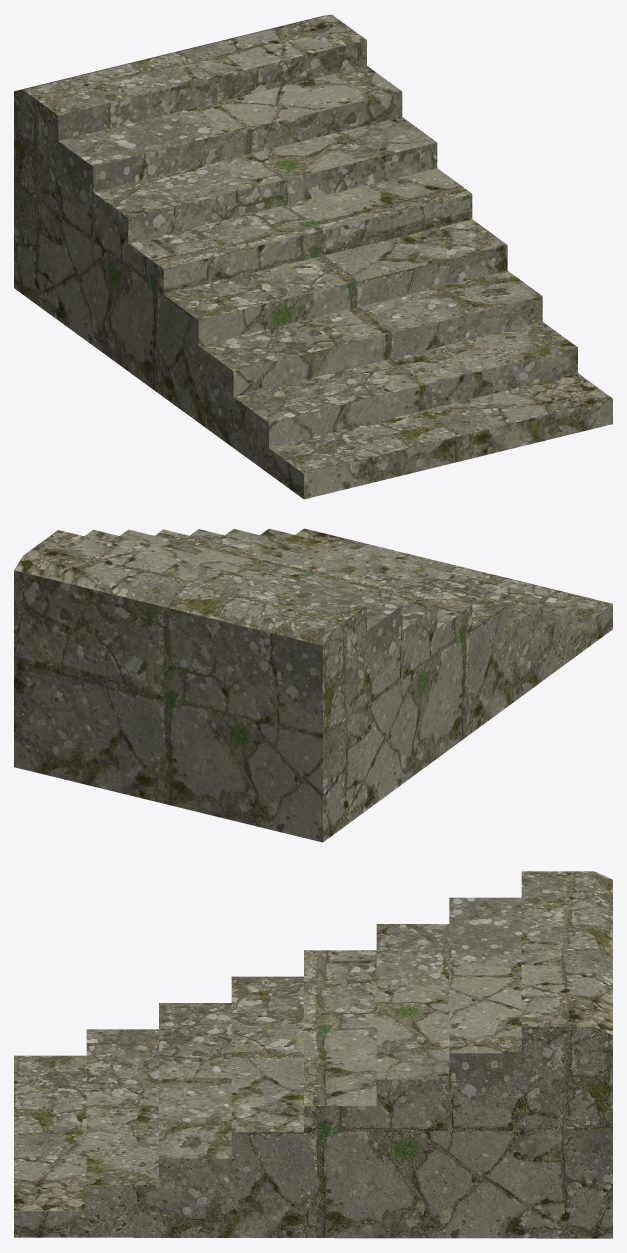
The model's file is SM_Chateaux_07_03.fbx.
3 renders of one model, top to bottom at view 1: azimuth 30°, elevation 25°; view 2: azimuth 150°, elevation 25°; view 3: azimuth 270°, elevation 25°, orthographic. The views are drawn at different scales.
Parts seen in each view (by area): view 1: SM_Chateaux_07_03; view 2: SM_Chateaux_07_03; view 3: SM_Chateaux_07_03.
Part boxes in pixels (left/top/right/bottom): SM_Chateaux_07_03: left=14, top=14, right=612, bottom=499; SM_Chateaux_07_03: left=14, top=528, right=612, bottom=842; SM_Chateaux_07_03: left=14, top=871, right=612, bottom=1238.
Bounding box in the file's own units: 317 × 201 × 516.
